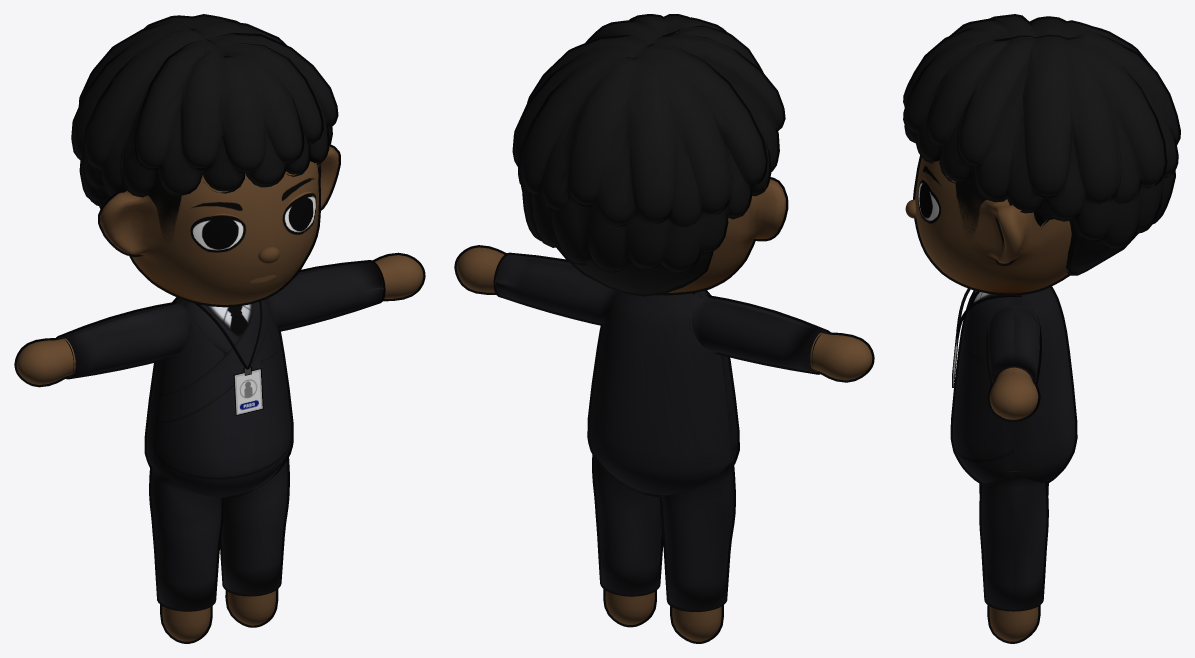
File: Main Character.fbx
The picture shows the model from 3 angles, left to right: view 1: azimuth 30°, elevation 25°; view 2: azimuth 150°, elevation 25°; view 3: azimuth 270°, elevation 25°; orthographic projection. The views are drawn at different scales.
Visible parts, largest first — view 1: Suit, Hair, Head, Body, Id Card; view 2: Hair, Suit, Body, Head; view 3: Hair, Suit, Head, Body, Id Card.
Part boxes in pixels (x1,y1,x2,y2): Suit: (56,260,385,611); Hair: (71,14,338,208); Head: (98,144,340,307); Body: (14,252,425,643); Id Card: (194,301,263,415); Hair: (512,14,785,296); Suit: (493,252,830,611); Body: (454,245,874,643); Head: (654,177,788,295); Hair: (903,14,1180,275); Suit: (950,286,1077,611); Head: (912,155,1071,295); Body: (987,367,1040,643); Id Card: (952,288,1021,387).
Size of the model in its own units: 296 by 412 by 175.
